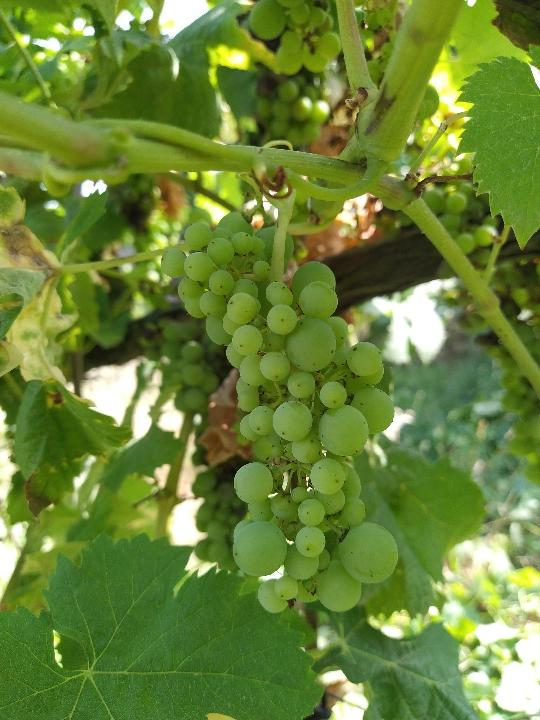grape: (158, 207, 400, 617)
